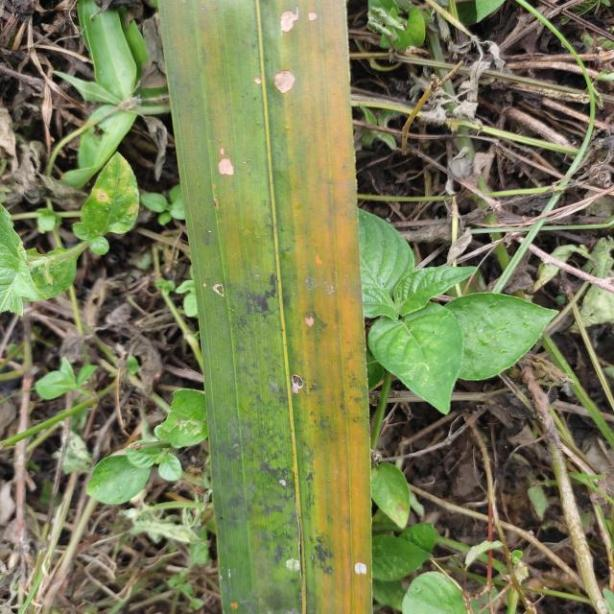Megnesium: (148, 1, 371, 614)
